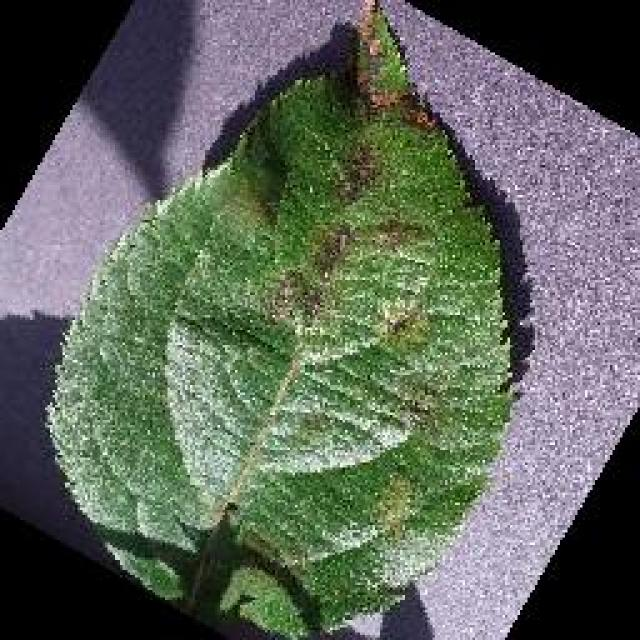apple scab disease: (43, 0, 525, 638)
